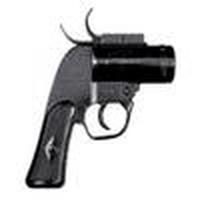gun: (24, 17, 178, 191)
